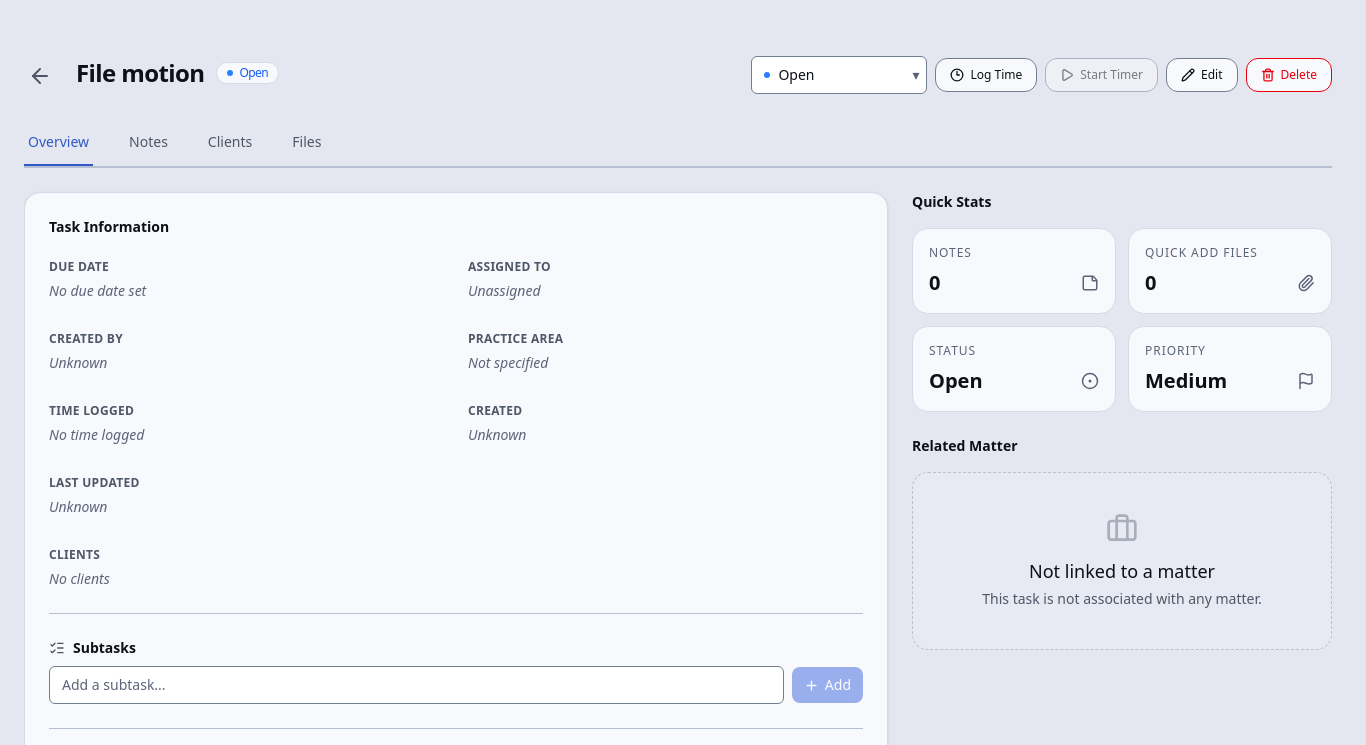
a refused action: the delete fails › tells the user the task was not deleted, and stays on the page
expect the heading "File motion Open" is shown: met, box [76,56,279,89]
Click the button "Delete". click: (1289, 75)
box: [1246,58,1332,92]
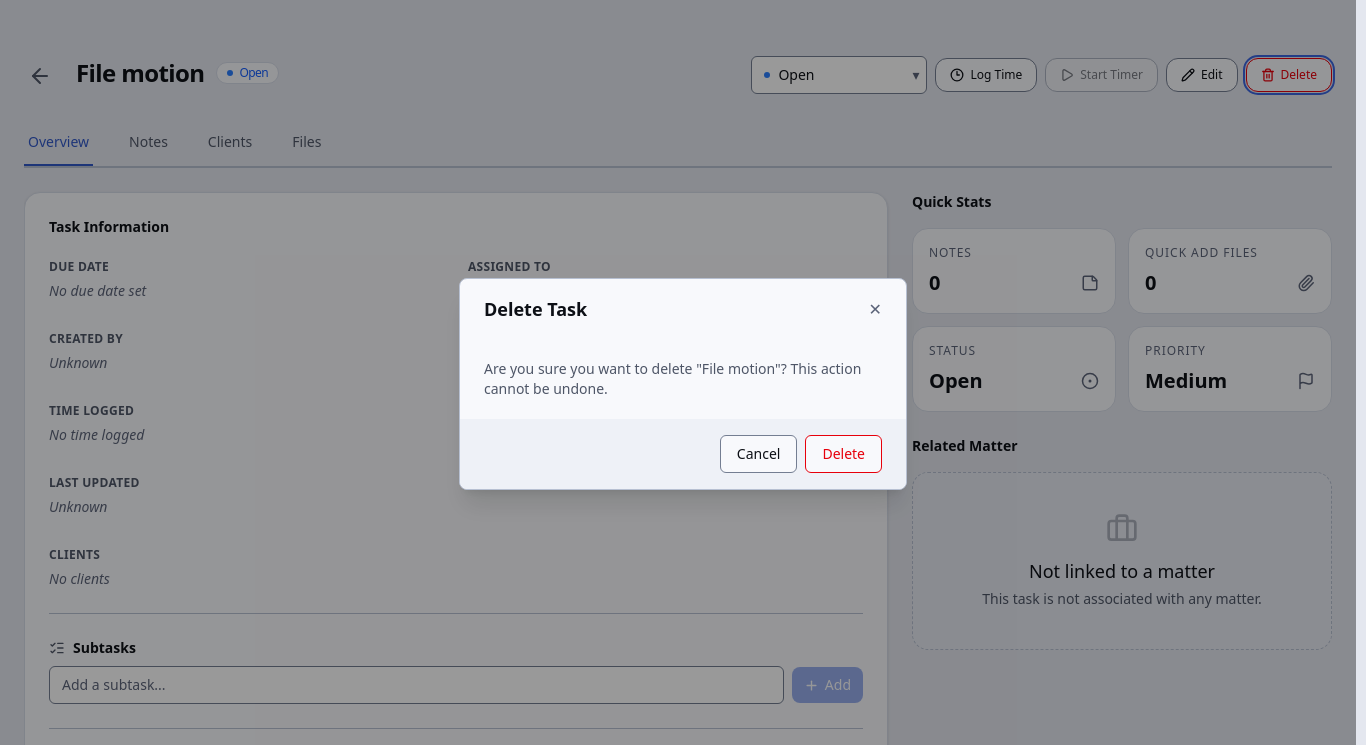
Click the button "Delete". click: (844, 454)
box: [805,435,882,473]
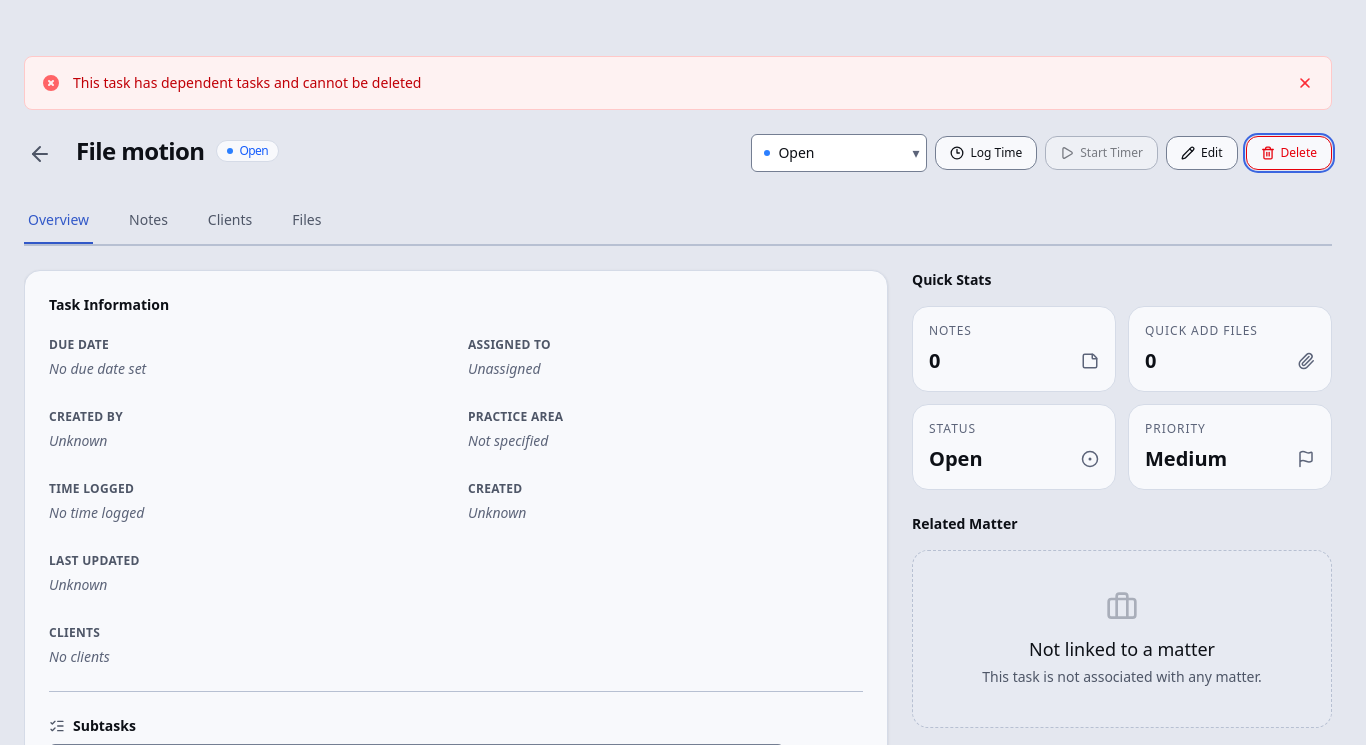
expect the heading "File motion Open" is shown: met, box [76,134,279,167]
expect the text "This task has dependent tasks and cannot be deleted" is shown: met, box [73,73,422,92]
